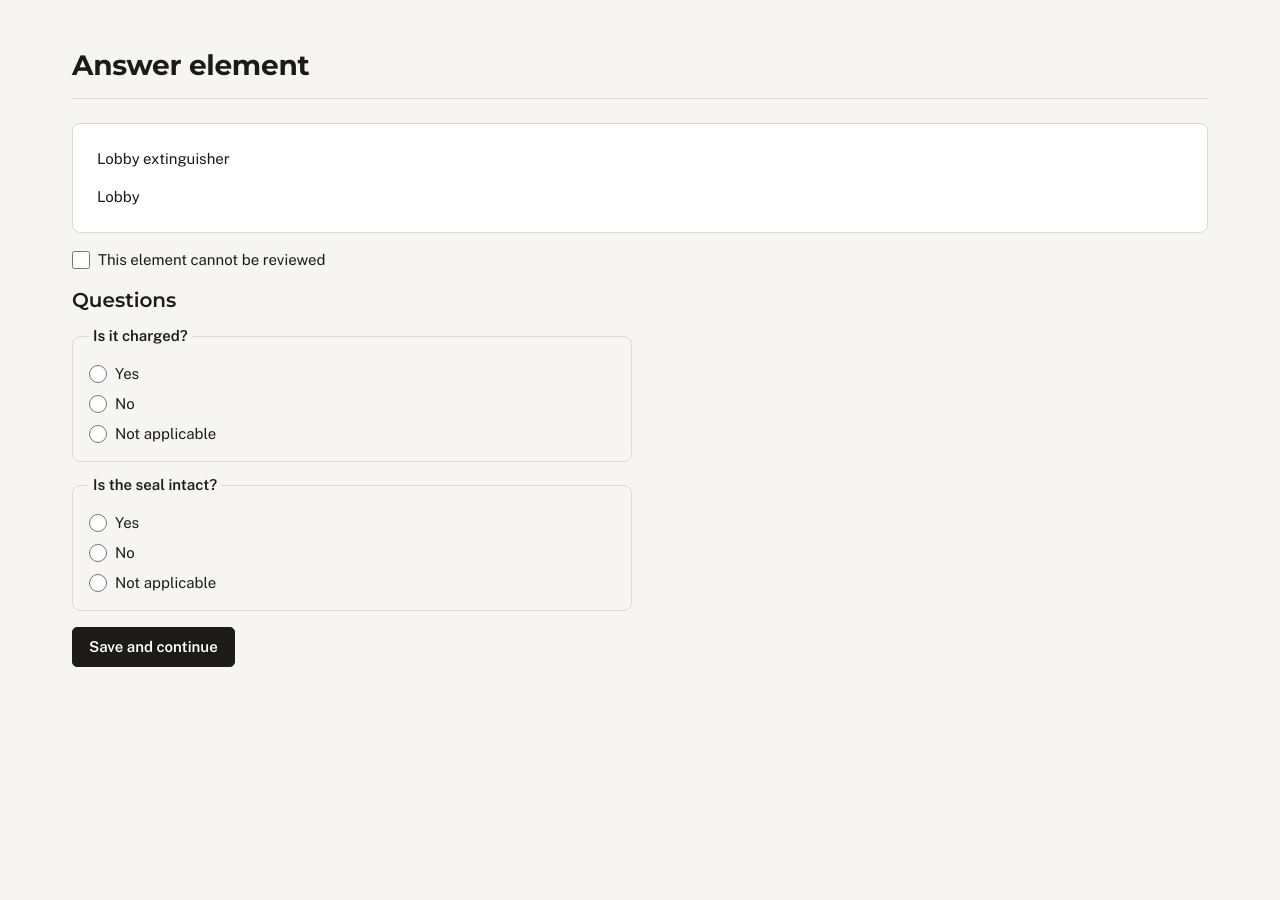
Test: ReviewSessionElementPage › withdraws the save confirmation after toggling mark unreviewed
expect the element with test id "review-session-element-question-q1" is shown: met, box top-left (72, 325), bottom-right (632, 462)
Click the radio button with test id "review-session-element-answer-q1-YES". click: x=98, y=374
box: top-left (89, 365), bottom-right (107, 383)
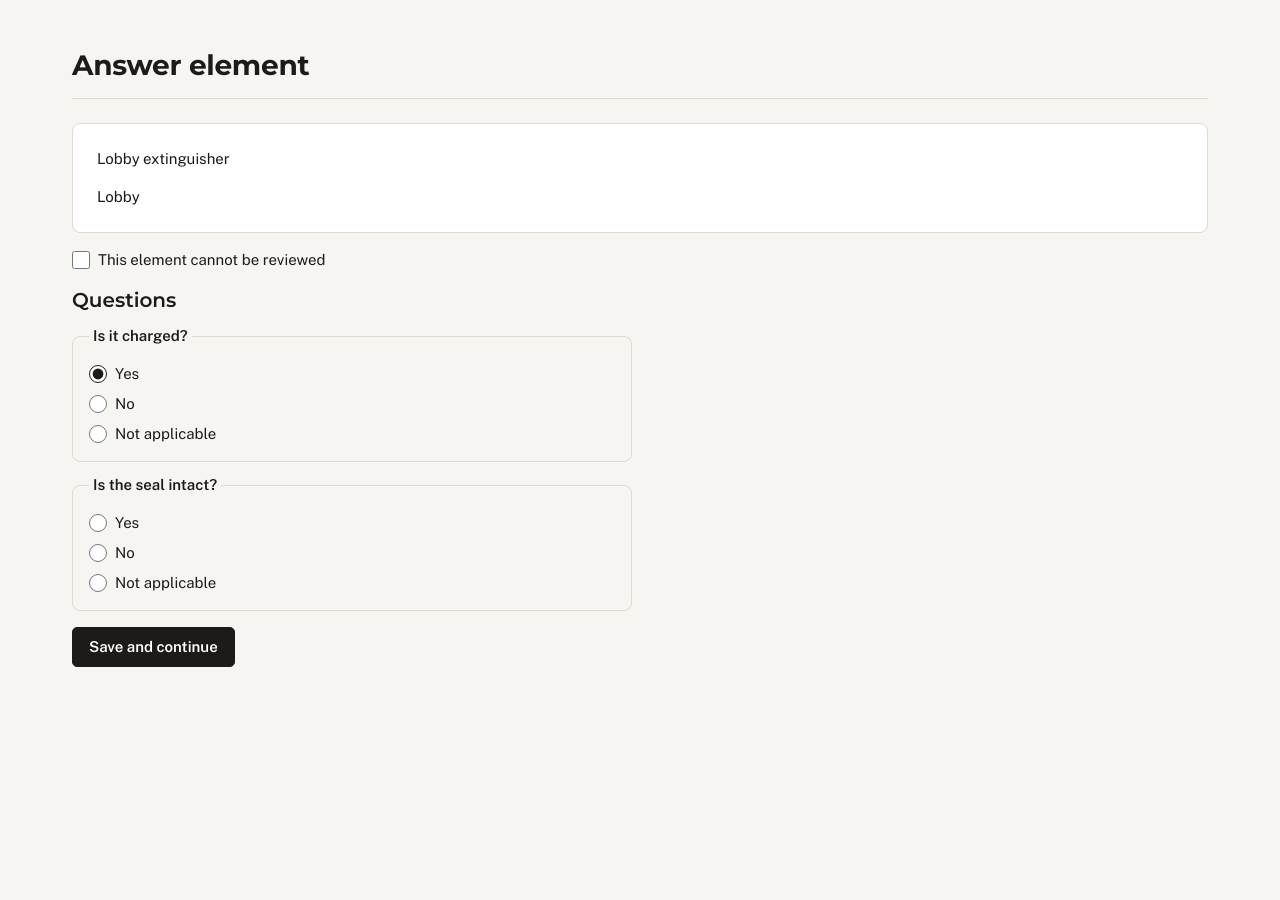
Click the radio button with test id "review-session-element-answer-q2-YES". click: x=98, y=523
box: top-left (89, 514), bottom-right (107, 532)
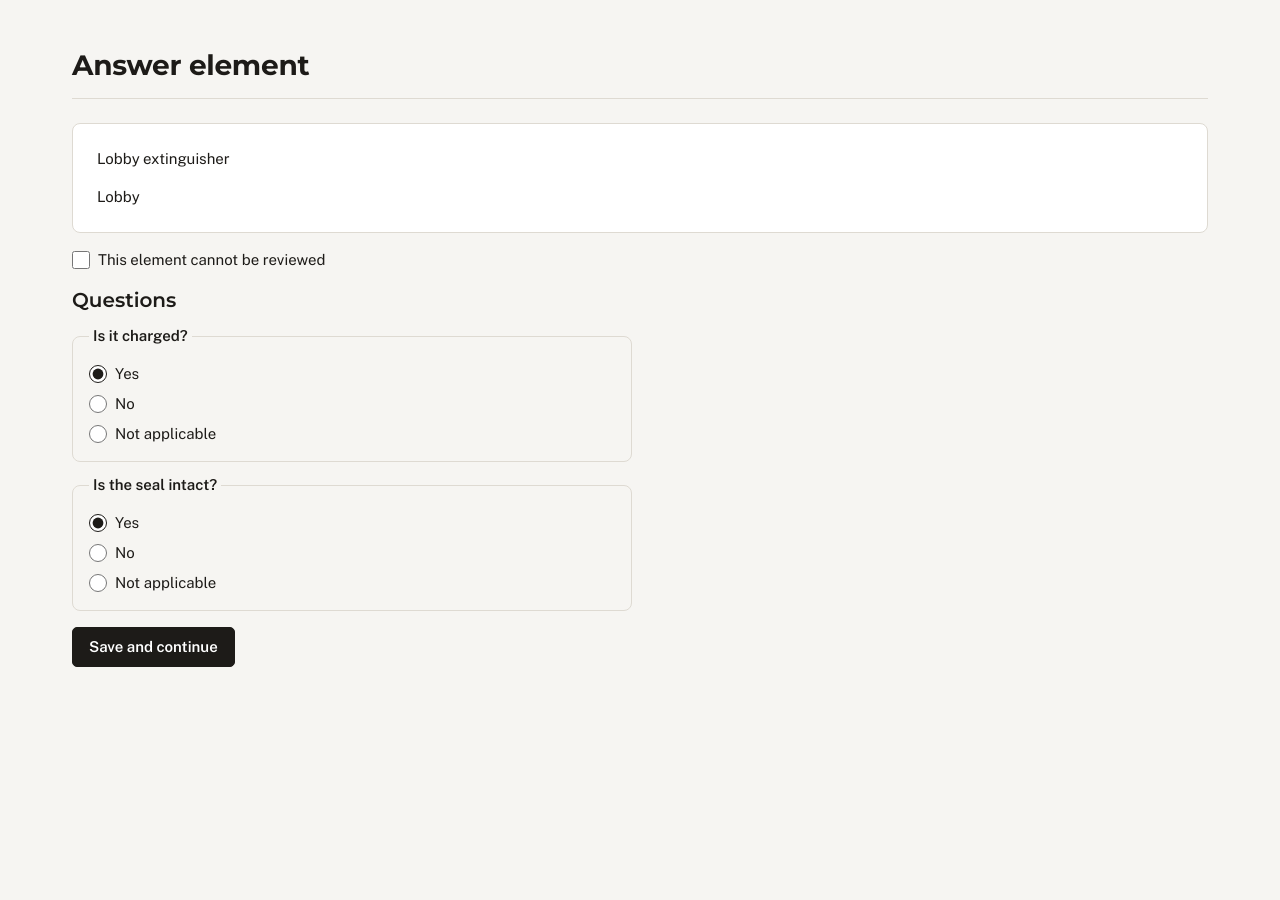
Click the button with test id "review-session-element-save". click: x=153, y=647
box: top-left (72, 627), bottom-right (235, 667)
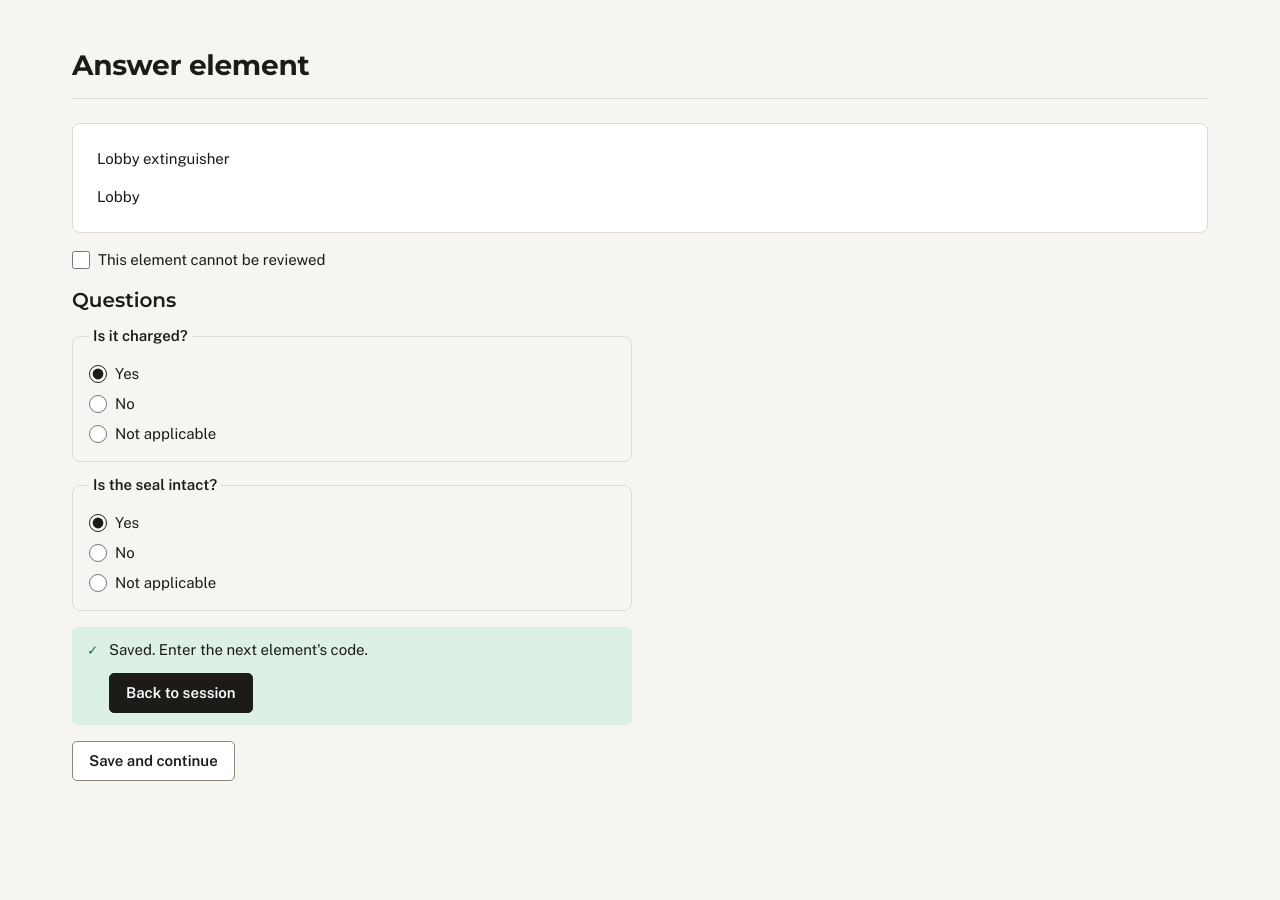
expect the element with test id "review-session-element-saved" is shown: met, box top-left (72, 627), bottom-right (632, 725)
Click the checkbox with test id "review-session-element-mark-unreviewed". click: x=81, y=260
box: top-left (72, 251), bottom-right (90, 269)
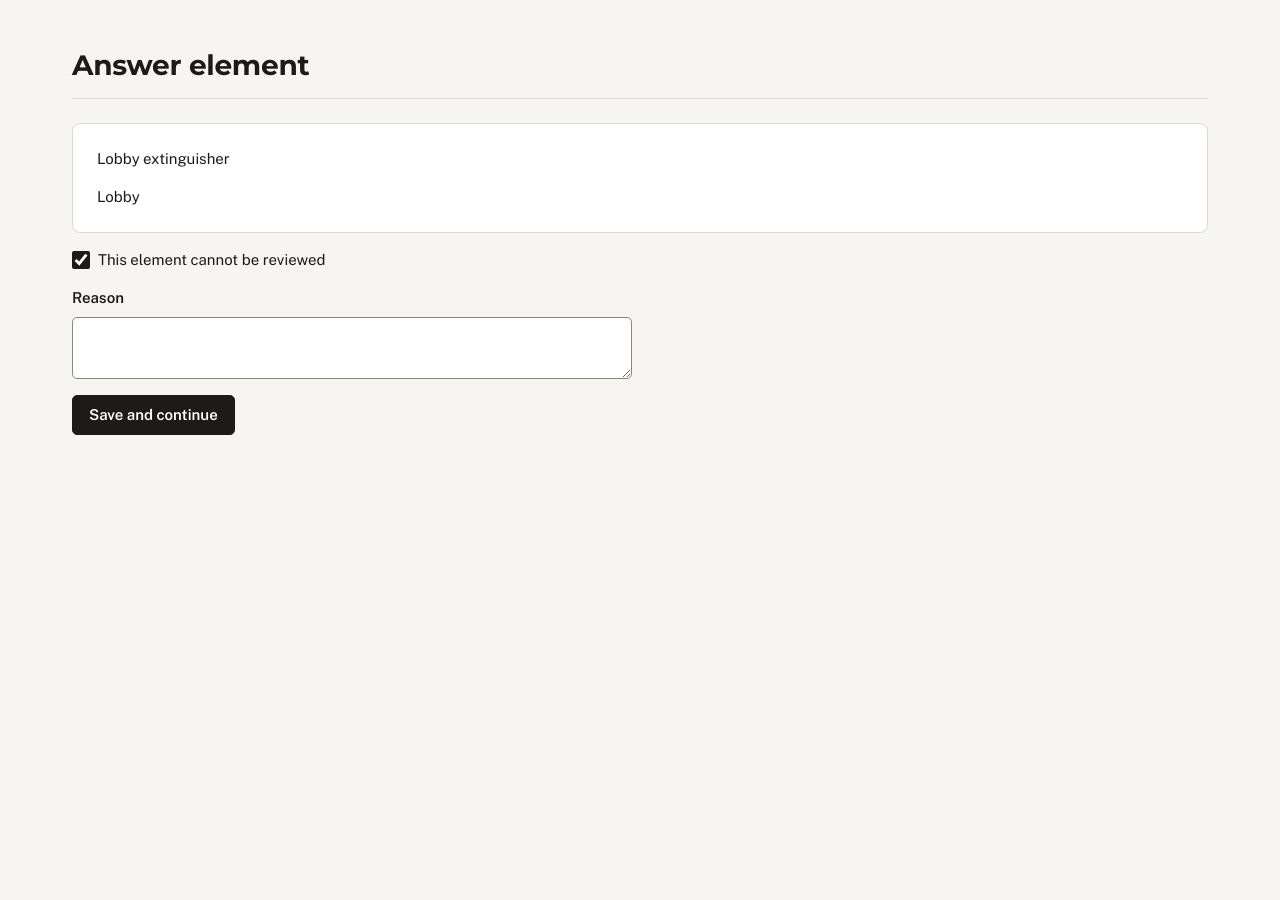
expect the element with test id "review-session-element-saved" is gone: met
expect the button with test id "review-session-element-continue" is gone: met
